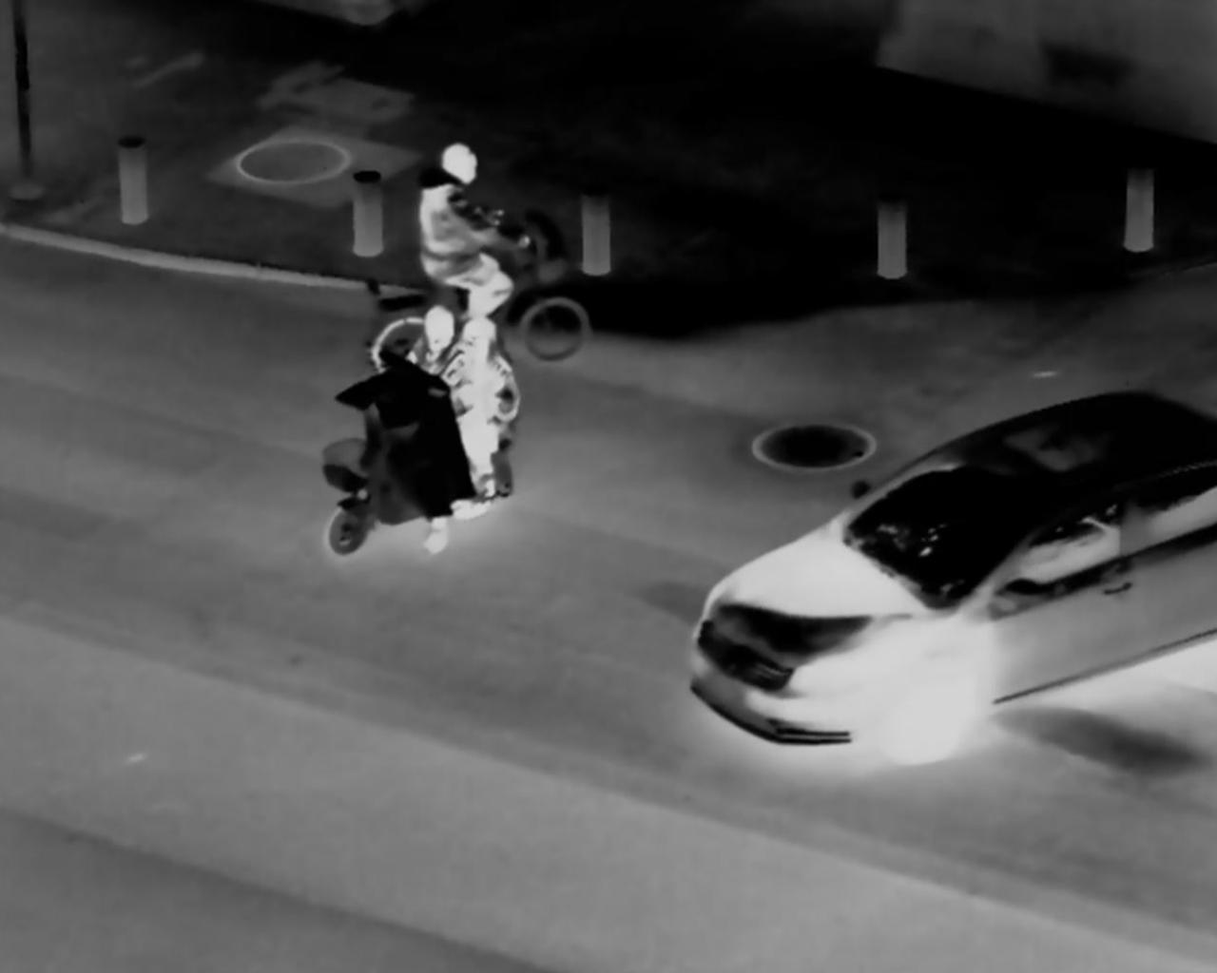person: (415, 133, 513, 320), (402, 301, 457, 552), (451, 316, 522, 499)
